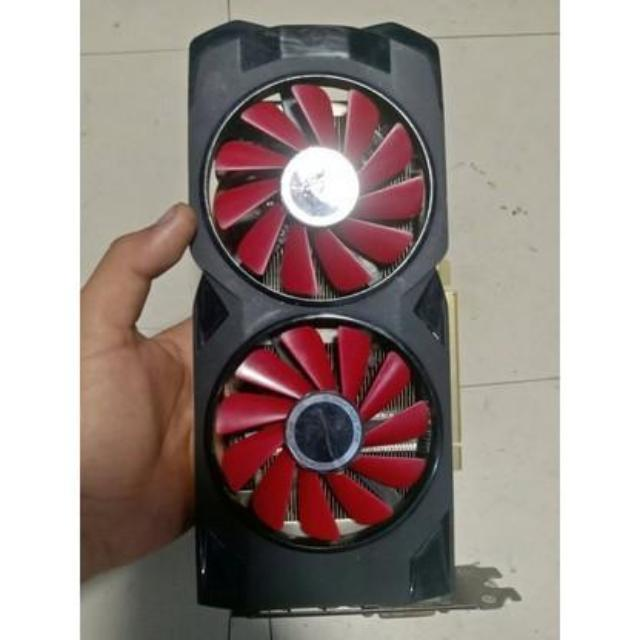GPU: (192, 21, 464, 612)
